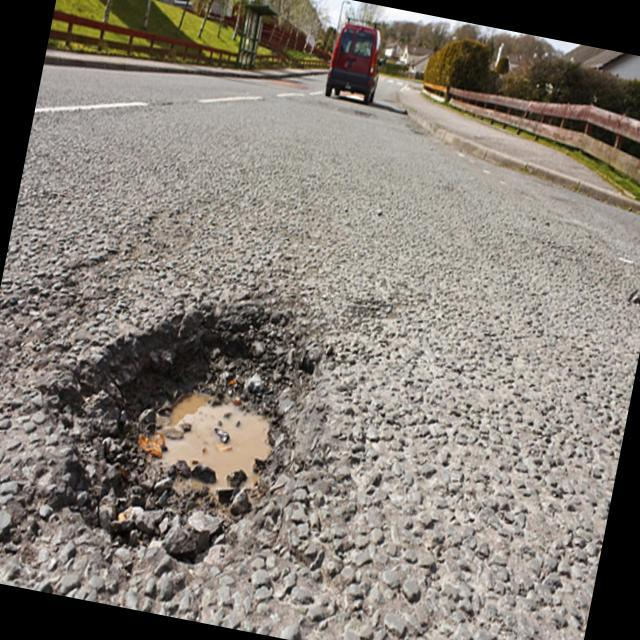Pothole: (33, 268, 331, 612)
